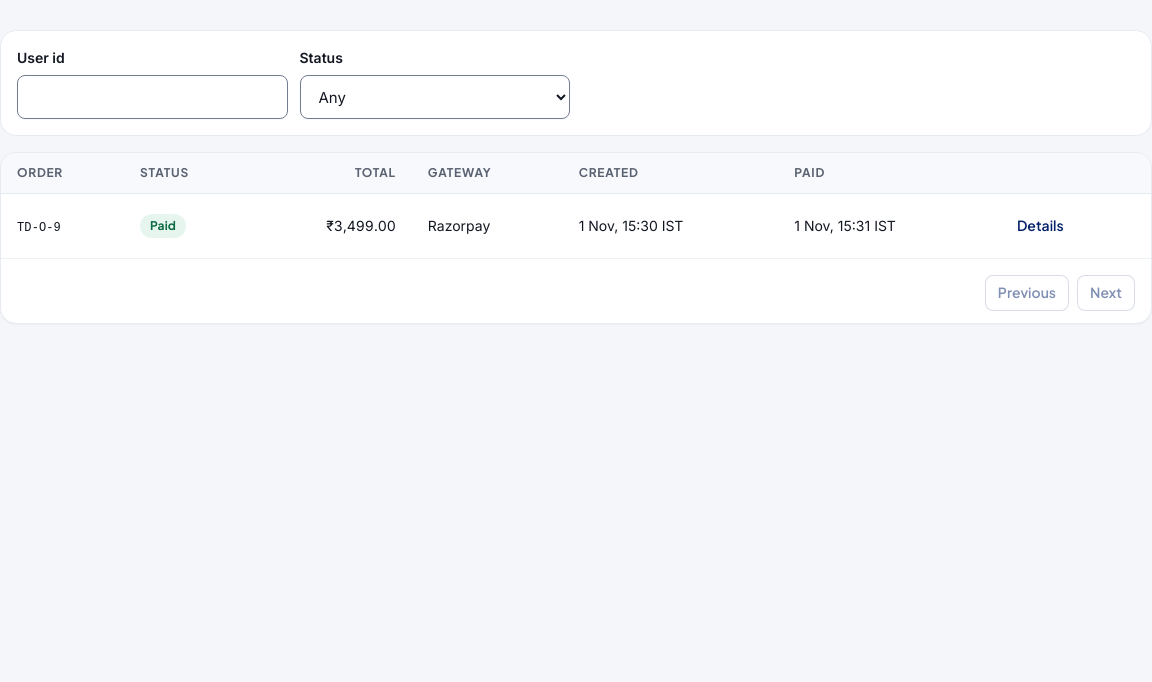
Test: Order detail (FIN-004, ADM-37) › shows a structured order instead of raw JSON
The width and height of the screenshot is (1152, 682).
What coordinates should you click on to do the following:
click the button with aria-label "Details for order TD-O-9"
I would click on:
 (1040, 226)
Its box is [1005,208,1076,244].
(page scrolled)
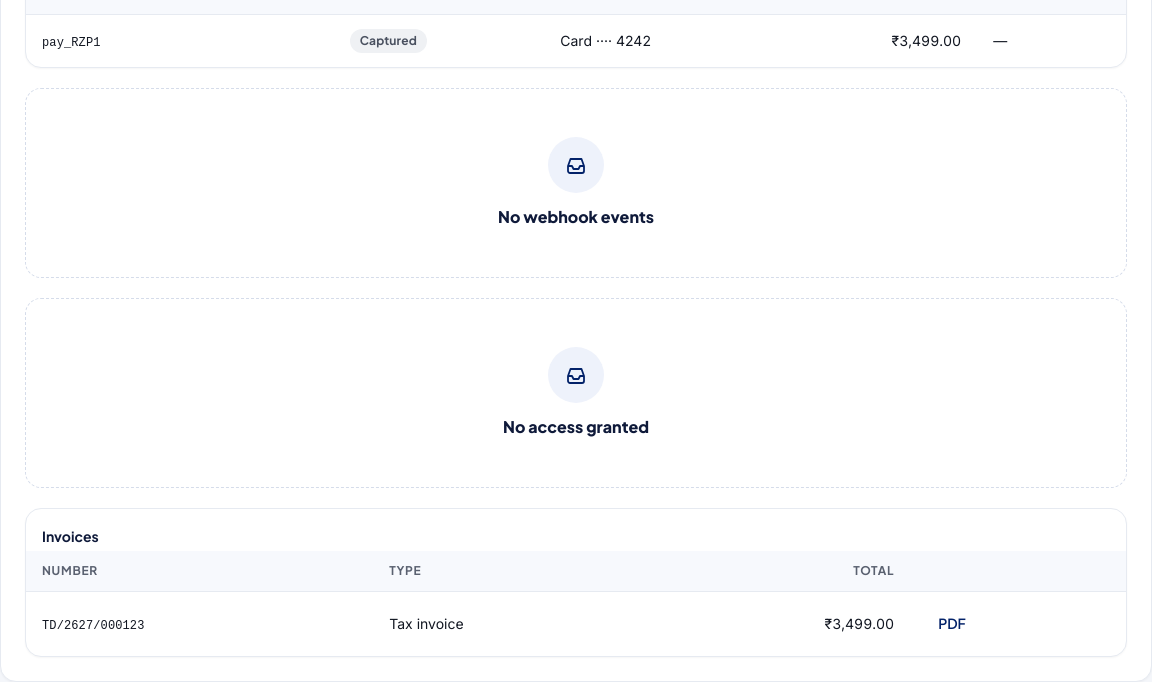
Now the text "Card ···· 4242" is shown, box [544,14,781,67]
Now the text "TD/2627/000123" is shown, box [42,619,144,633]
